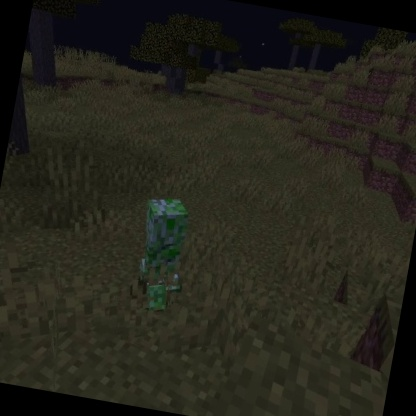creeper: (124, 191, 200, 321)
